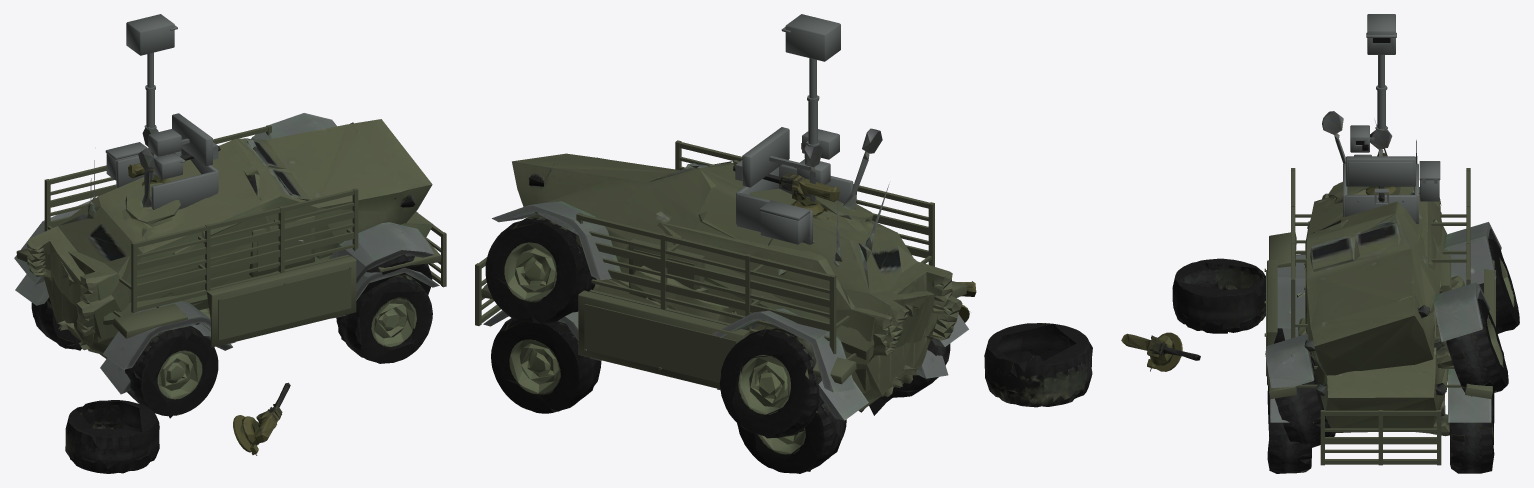
The model's file is scout_shachaf.glb.
3 renders of one model, left to right at view 1: azimuth 30°, elevation 25°; view 2: azimuth 150°, elevation 25°; view 3: azimuth 270°, elevation 25°, orthographic. The views are drawn at different scales.
Parts seen in each view (by area): view 1: WRECK_hull_hull, hull_rubber, kit_armour_2_hull_hull, WRECK_hull_rubber, hull_hull, kit_armour_3_hull_hull, kit_armour_3_hull_hull_near, kit_armour_3_hull_hull_far, kit_firepower_3_turret_metal, kit_sensors_3_hull_hull, kit_armour_1_hull_hull, kit_sensors_2_hull_hull (+5 smaller); view 2: WRECK_hull_hull, WRECK_hull_rubber, hull_hull, hull_rubber, kit_armour_2_hull_hull, kit_armour_3_hull_hull, kit_armour_3_hull_hull_far, kit_armour_3_hull_hull_near, kit_sensors_3_hull_hull, kit_firepower_3_turret_metal, kit_firepower_2_turret_metal, kit_sensors_2_hull_hull (+3 smaller); view 3: WRECK_hull_hull, WRECK_hull_rubber, hull_hull, hull_rubber, kit_armour_3_hull_hull, kit_armour_2_hull_hull, kit_sensors_2_hull_hull, kit_sensors_3_hull_hull, kit_firepower_3_turret_metal, WRECK_turret_metal, kit_firepower_2_turret_metal, kit_armour_3_hull_hull_near (+3 smaller).
Part boxes in pixels (left/top/right/bottom): WRECK_hull_hull: left=14, top=119, right=434, bottom=394; hull_rubber: left=31, top=267, right=432, bottom=416; kit_armour_2_hull_hull: left=16, top=242, right=441, bottom=347; WRECK_hull_rubber: left=14, top=113, right=432, bottom=473; hull_hull: left=15, top=128, right=439, bottom=369; kit_armour_3_hull_hull: left=44, top=125, right=446, bottom=312; kit_armour_3_hull_hull_near: left=50, top=177, right=440, bottom=300; kit_armour_3_hull_hull_far: left=50, top=184, right=440, bottom=291; kit_firepower_3_turret_metal: left=116, top=148, right=218, bottom=209; kit_sensors_3_hull_hull: left=126, top=14, right=177, bottom=129; kit_armour_1_hull_hull: left=249, top=216, right=314, bottom=277; kit_sensors_2_hull_hull: left=172, top=113, right=212, bottom=166; WRECK_hull_hull: left=497, top=128, right=962, bottom=396; WRECK_hull_rubber: left=485, top=201, right=1092, bottom=438; hull_hull: left=491, top=145, right=968, bottom=420; hull_rubber: left=483, top=310, right=950, bottom=473; kit_armour_2_hull_hull: left=481, top=281, right=967, bottom=389; kit_armour_3_hull_hull: left=475, top=140, right=934, bottom=354; kit_armour_3_hull_hull_far: left=481, top=166, right=928, bottom=331; kit_armour_3_hull_hull_near: left=481, top=157, right=928, bottom=340; kit_sensors_3_hull_hull: left=781, top=14, right=840, bottom=146; kit_firepower_3_turret_metal: left=736, top=164, right=853, bottom=244; kit_firepower_2_turret_metal: left=735, top=160, right=810, bottom=244; kit_sensors_2_hull_hull: left=742, top=127, right=810, bottom=187; WRECK_hull_hull: left=1269, top=111, right=1503, bottom=447; WRECK_hull_rubber: left=1172, top=222, right=1519, bottom=442; hull_hull: left=1270, top=129, right=1490, bottom=473; hull_rubber: left=1267, top=254, right=1494, bottom=473; kit_armour_3_hull_hull: left=1291, top=168, right=1470, bottom=465; kit_armour_2_hull_hull: left=1264, top=232, right=1495, bottom=399; kit_sensors_2_hull_hull: left=1346, top=150, right=1415, bottom=186; kit_sensors_3_hull_hull: left=1366, top=14, right=1396, bottom=131; kit_firepower_3_turret_metal: left=1343, top=163, right=1418, bottom=224; WRECK_turret_metal: left=1143, top=332, right=1200, bottom=371; kit_firepower_2_turret_metal: left=1374, top=161, right=1440, bottom=205; kit_armour_3_hull_hull_near: left=1325, top=428, right=1436, bottom=452.
Bounding box in the file's own units: 5.56 × 4.57 × 4.46.
Materials: 1 (1 with a texture image).
